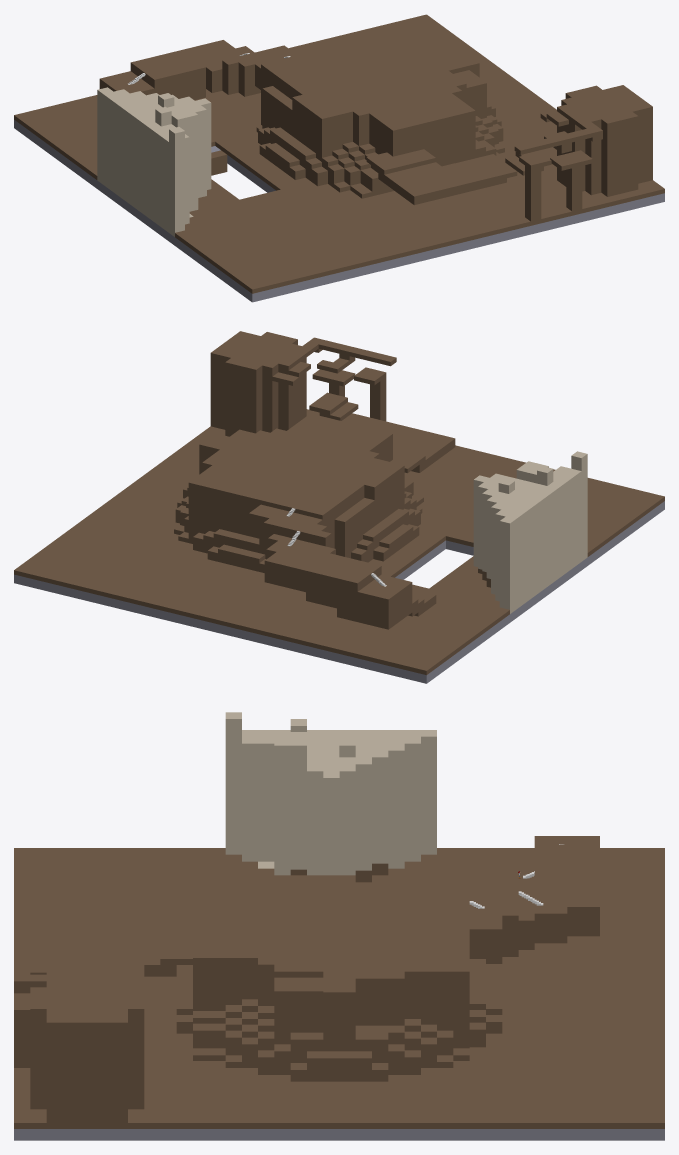
File: lostberg_ground.glb
3 renders of one model, top to bottom at view 1: azimuth 30°, elevation 25°; view 2: azimuth 150°, elevation 25°; view 3: azimuth 270°, elevation 25°, orthographic. The views are drawn at different scales.
Parts seen in each view (by area): view 1: Untitled; view 2: Untitled; view 3: Untitled.
Part boxes in pixels (left/top/right/bottom): Untitled: left=14, top=14, right=664, bottom=302; Untitled: left=14, top=331, right=664, bottom=683; Untitled: left=14, top=712, right=664, bottom=1140.
Bounding box in the file's own units: 200 × 56 × 200.
2 materials, 2 textured.
